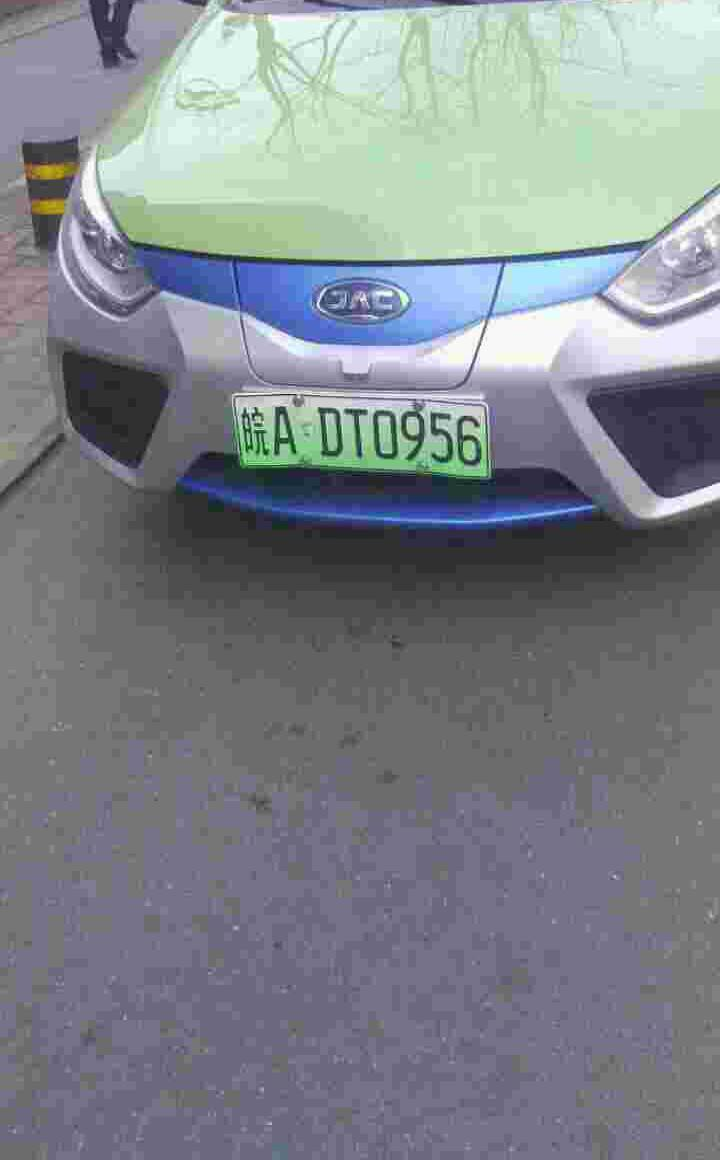car_green: (229, 385, 496, 484)
